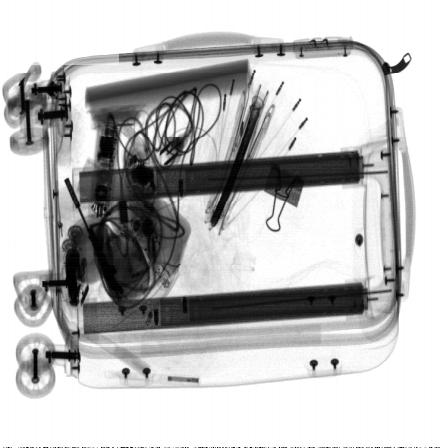Gun: (63, 176, 128, 320)
